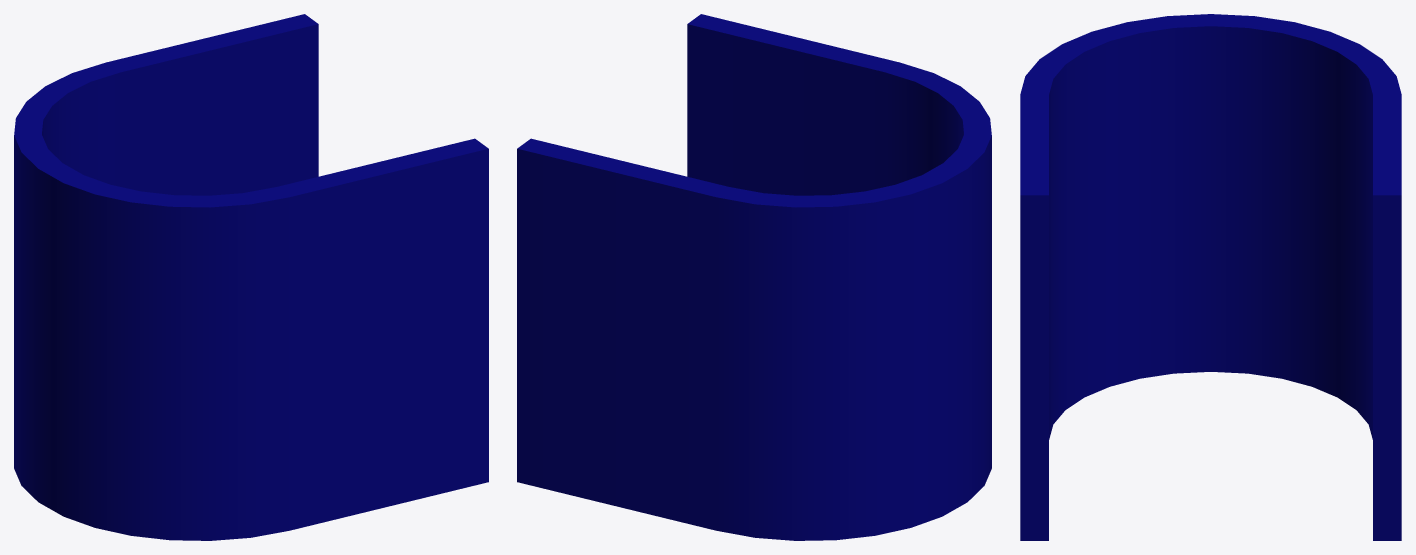
File: Wall04.FBX
3 views of the same model, side by side, from view 1: azimuth 30°, elevation 25°; view 2: azimuth 150°, elevation 25°; view 3: azimuth 270°, elevation 25° (orthographic). The views are drawn at different scales.
Parts seen in each view (by area): view 1: Wall04; view 2: Wall04; view 3: Wall04.
Boxes of the visible parts, x1=… form: Wall04: x1=14, y1=14, x2=488, y2=540; Wall04: x1=517, y1=14, x2=991, y2=540; Wall04: x1=1020, y1=14, x2=1401, y2=540.
Bounding box in the file's own units: 90 × 80 × 80.
1 material, 1 textured.
